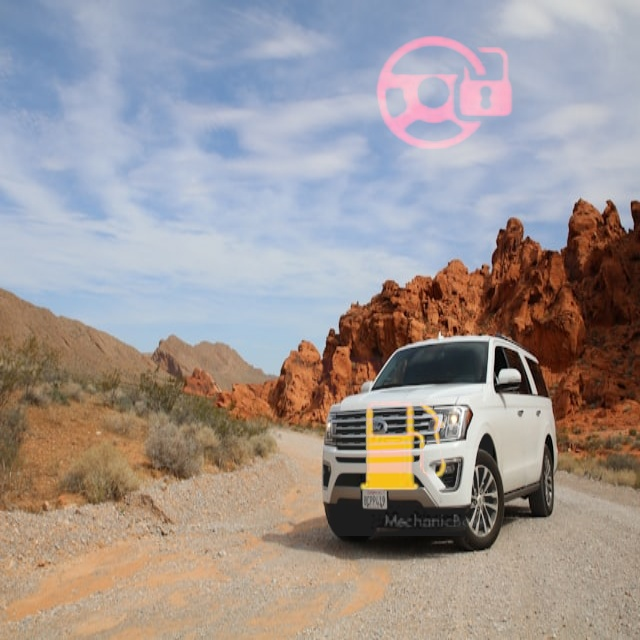symbol: (354, 3, 537, 186), (314, 357, 493, 536)
